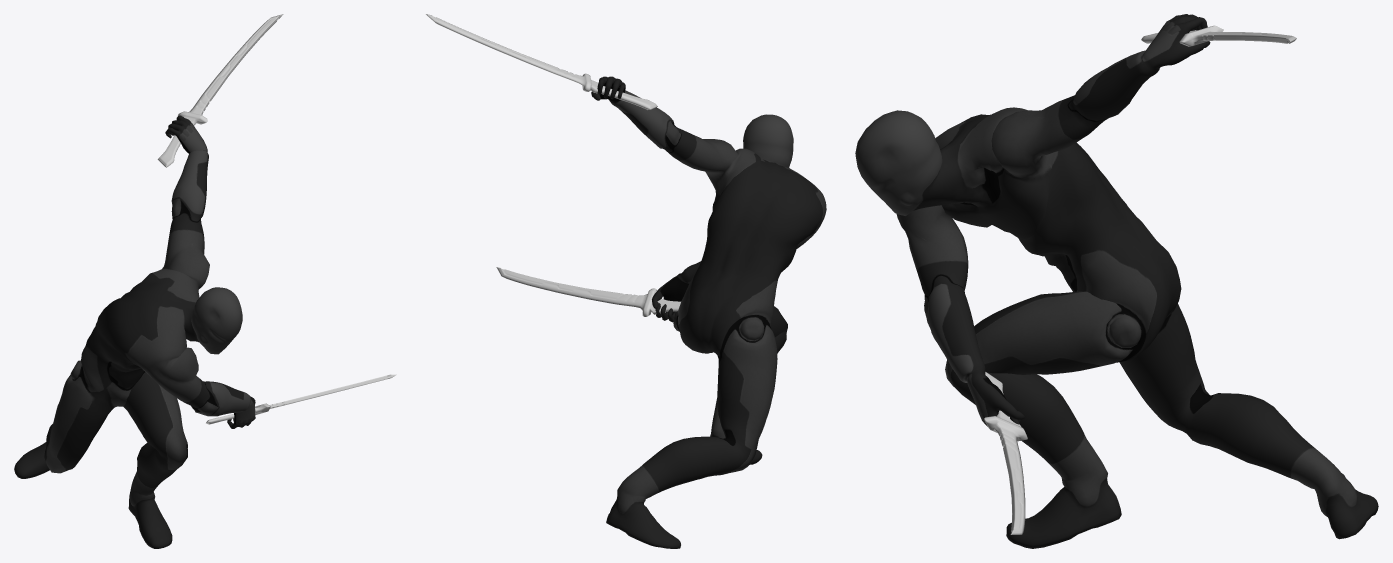
3 views of the same model, side by side, from view 1: azimuth 30°, elevation 25°; view 2: azimuth 150°, elevation 25°; view 3: azimuth 270°, elevation 25° (orthographic). The views are drawn at different scales.
Parts seen in each view (by area): view 1: Cyborg_Ninja_Killer, Sword_l, Sword_l001; view 2: Cyborg_Ninja_Killer, Sword_l001, Sword_l; view 3: Cyborg_Ninja_Killer, Sword_l001, Sword_l.
Part boxes in pixels (x1,y1,x2,y2): Cyborg_Ninja_Killer: [14, 115, 255, 548]; Sword_l: [157, 14, 283, 167]; Sword_l001: [206, 374, 396, 424]; Cyborg_Ninja_Killer: [591, 76, 826, 548]; Sword_l001: [496, 267, 680, 316]; Sword_l: [426, 14, 657, 109]; Cyborg_Ninja_Killer: [855, 14, 1378, 548]; Sword_l001: [984, 372, 1027, 534]; Sword_l: [1141, 25, 1296, 46].
Bounding box in the file's own units: 133 × 179 × 129.
